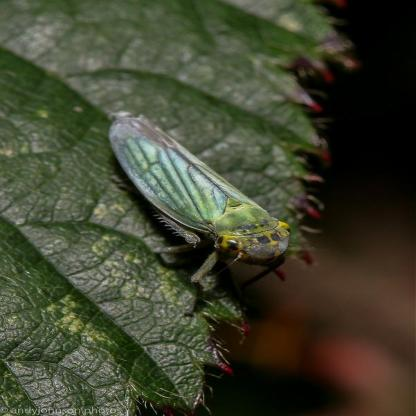Green-Leafhopper: (102, 108, 296, 286)
